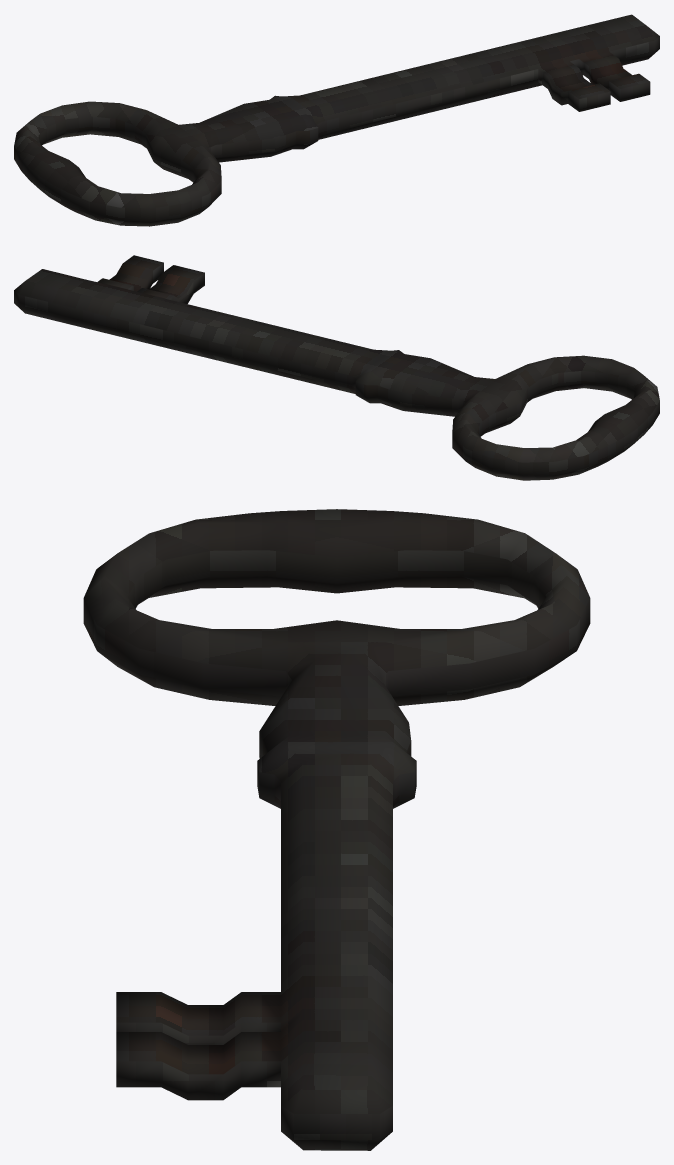
The model's file is key_1.obj.
3 renders of one model, top to bottom at view 1: azimuth 30°, elevation 25°; view 2: azimuth 150°, elevation 25°; view 3: azimuth 270°, elevation 25°, orthographic. The views are drawn at different scales.
Parts seen in each view (by area): view 1: key_1; view 2: key_1; view 3: key_1.
Part boxes in pixels (<box>): key_1: <box>14,14,659,226</box>; key_1: <box>14,255,659,480</box>; key_1: <box>83,509,590,1150</box>.
Bounding box in the file's own units: 0.1428 × 0.00726 × 0.0514.
